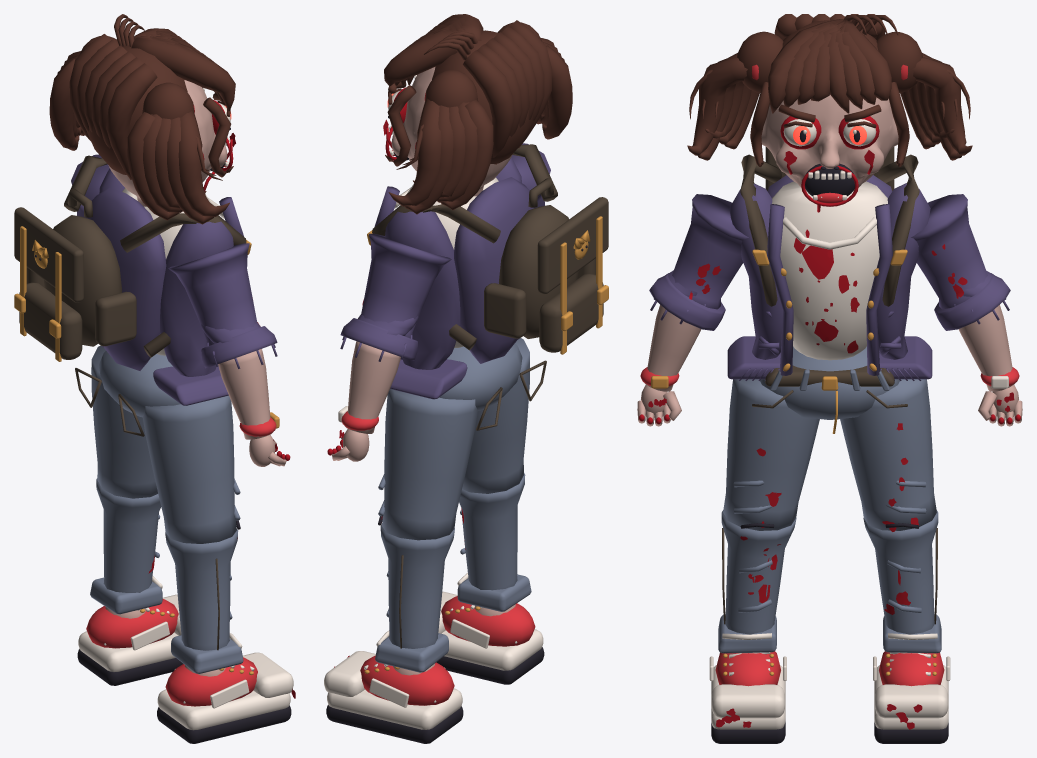
The picture shows the model from 3 angles, left to right: view 1: azimuth 30°, elevation 25°; view 2: azimuth 150°, elevation 25°; view 3: azimuth 270°, elevation 25°; orthographic projection. The views are drawn at different scales.
Visible parts, largest first — view 1: head__pal_woodWarm, torso__pal_asphalt, backpackSocket__pal_backpackTeal, legR__pal_sidewalk, shinR__pal_sidewalk, armR__pal_asphalt, shinL__pal_sidewalk, legL__pal_sidewalk, footR__pal_picketWhite, footL__pal_picketWhite, foreArmR__pal_infectedSkin, hip__pal_sidewalk (+11 smaller); view 2: head__pal_woodWarm, torso__pal_asphalt, backpackSocket__pal_backpackTeal, legL__pal_sidewalk, shinL__pal_sidewalk, armL__pal_asphalt, shinR__pal_sidewalk, legR__pal_sidewalk, footL__pal_picketWhite, footR__pal_picketWhite, foreArmL__pal_infectedSkin, hip__pal_sidewalk (+11 smaller); view 3: head__pal_woodWarm, torso__pal_asphalt, torso__pal_picketWhite, legR__pal_sidewalk, legL__pal_sidewalk, armL__pal_asphalt, armR__pal_asphalt, shinL__pal_sidewalk, shinR__pal_sidewalk, head__pal_infectedSkin, torso__pal_backpackTeal, hip__pal_sidewalk (+16 smaller).
Part boxes in pixels (x1,y1,x2,y2): head__pal_woodWarm: (49,14,235,224); torso__pal_asphalt: (87,168,243,405); backpackSocket__pal_backpackTeal: (14,188,136,359); legR__pal_sidewalk: (142,395,240,543); shinR__pal_sidewalk: (165,529,243,673); armR__pal_asphalt: (168,243,277,368); shinL__pal_sidewalk: (90,478,162,614); legL__pal_sidewalk: (91,345,157,498); footR__pal_picketWhite: (157,652,293,730); footL__pal_picketWhite: (78,594,181,671); foreArmR__pal_infectedSkin: (218,349,272,439); hip__pal_sidewalk: (99,351,180,417); head__pal_woodWarm: (384,14,572,214); torso__pal_asphalt: (374,157,534,399); backpackSocket__pal_backpackTeal: (484,178,608,352); legL__pal_sidewalk: (378,389,477,540); shinL__pal_sidewalk: (375,525,454,672); armL__pal_asphalt: (340,233,451,361); shinR__pal_sidewalk: (457,473,531,611); legR__pal_sidewalk: (462,338,529,493); footL__pal_picketWhite: (324,651,462,729); footR__pal_picketWhite: (438,591,543,670); foreArmL__pal_infectedSkin: (345,341,400,433); hip__pal_sidewalk: (439,343,522,410); head__pal_woodWarm: (687,14,972,166); torso__pal_asphalt: (727,175,932,380); torso__pal_picketWhite: (772,181,887,360); legR__pal_sidewalk: (723,379,819,530); legL__pal_sidewalk: (840,379,936,530); armL__pal_asphalt: (911,194,1010,330); armR__pal_asphalt: (649,194,748,330); shinL__pal_sidewalk: (863,510,941,653); shinR__pal_sidewalk: (718,510,796,653); head__pal_infectedSkin: (761,95,898,191); torso__pal_backpackTeal: (740,154,919,306); hip__pal_sidewalk: (760,346,899,419).
Size of what is drawn, in the model's own units: 0.4995 by 1.55 by 0.788.
